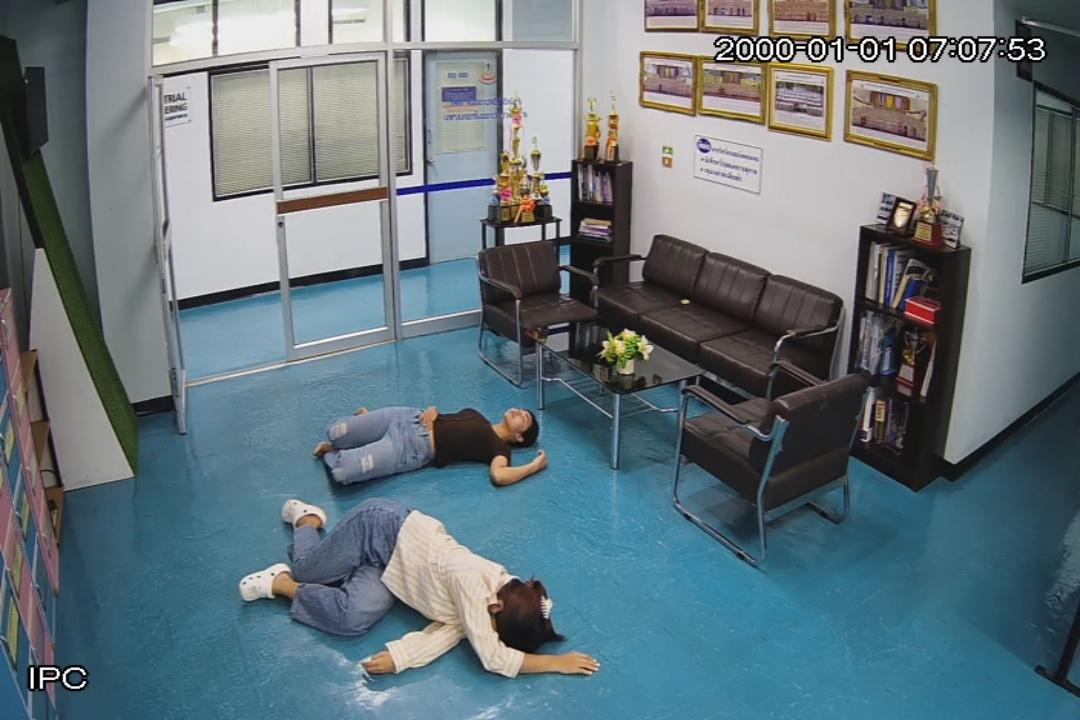fall: (246, 499, 602, 681), (319, 404, 551, 489)
